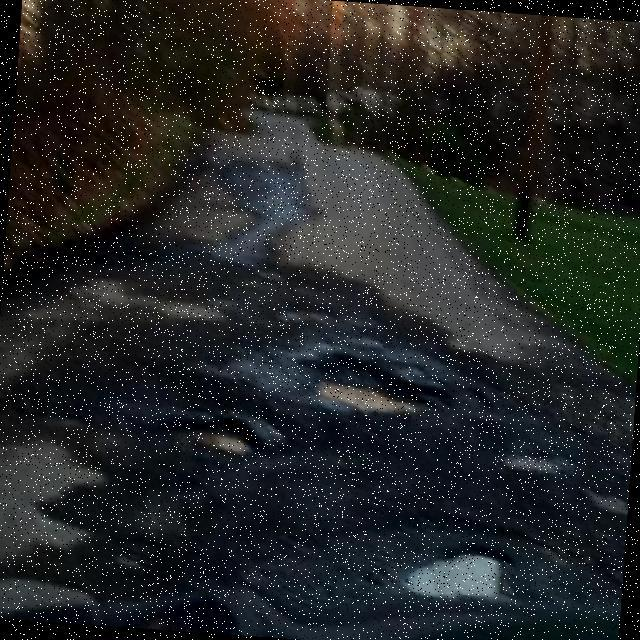Pothole: (298, 348, 457, 421), (401, 543, 510, 600), (156, 412, 261, 460)
